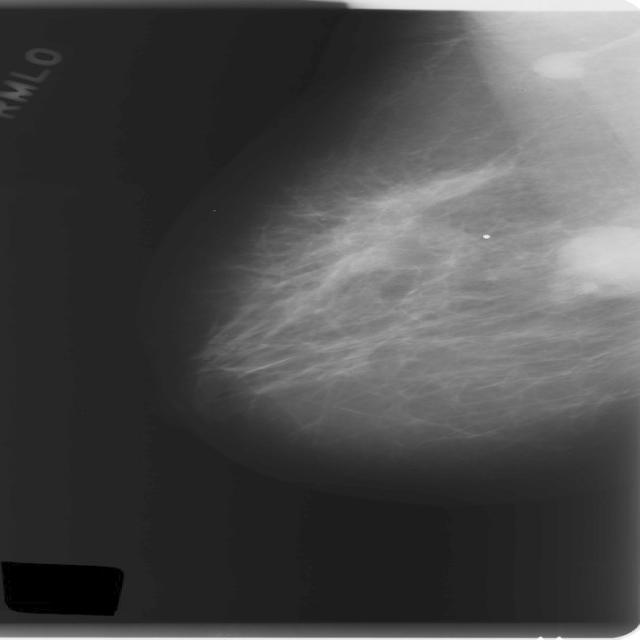tumour: (561, 226, 638, 296), (528, 49, 590, 79)
